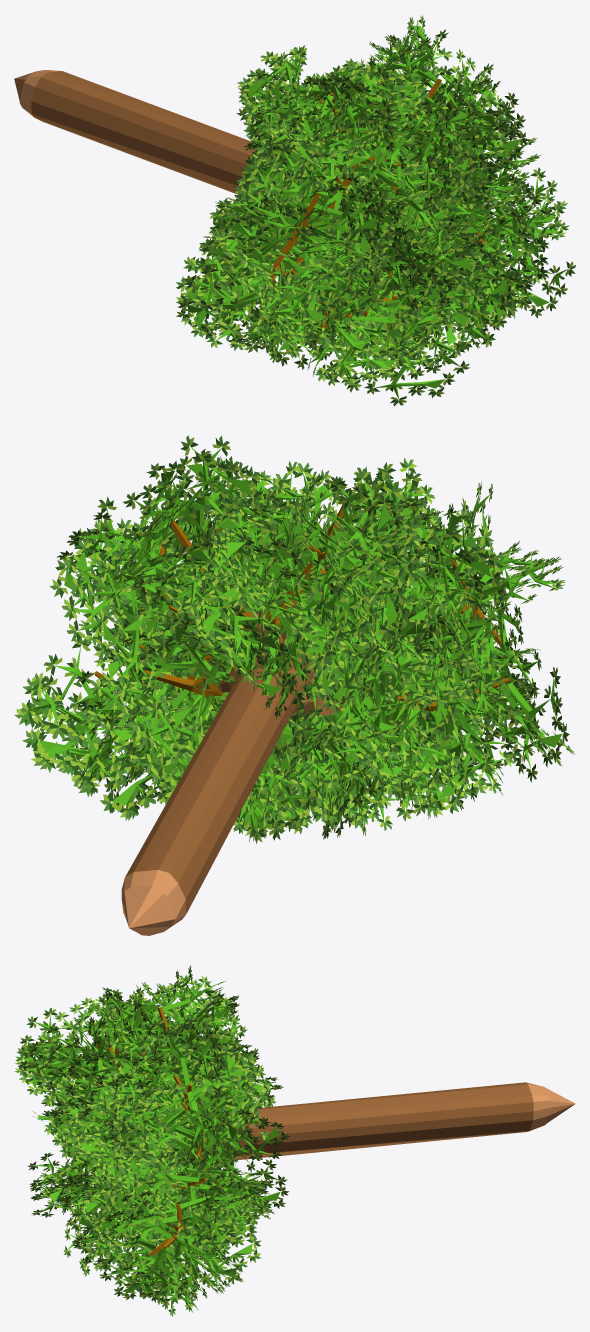
The model's file is ArbolCaido.glb.
3 renders of one model, top to bottom at view 1: azimuth 30°, elevation 25°; view 2: azimuth 150°, elevation 25°; view 3: azimuth 270°, elevation 25°, orthographic. The views are drawn at different scales.
Visible parts, largest first — view 1: Arbol, Cylinder; view 2: Arbol, Cylinder; view 3: Arbol, Cylinder.
Part boxes in pixels (x1,y1,x2,y2): Arbol: [176, 14, 575, 406]; Cylinder: [14, 70, 262, 194]; Arbol: [14, 435, 574, 843]; Cylinder: [121, 610, 342, 935]; Arbol: [14, 965, 290, 1316]; Cylinder: [203, 1082, 575, 1165].
Size of the model in its own units: 19.61 by 15.52 by 28.08.
Materials: 8 (1 with a texture image).
